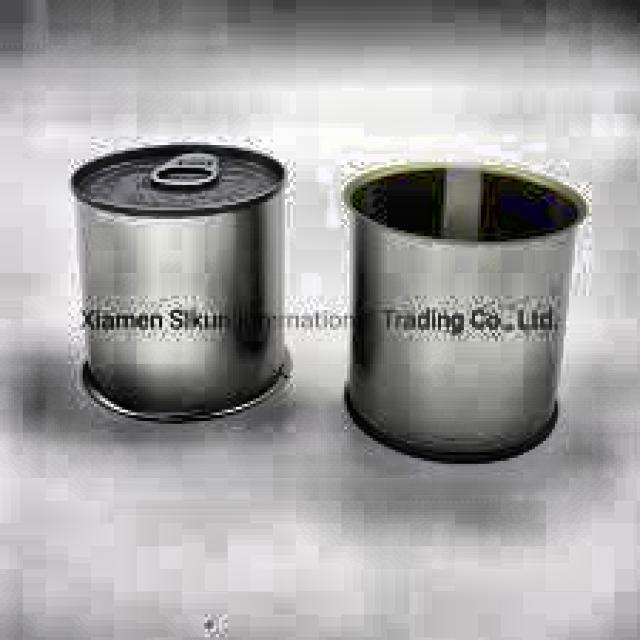can: (340, 149, 590, 468), (60, 133, 304, 437)
